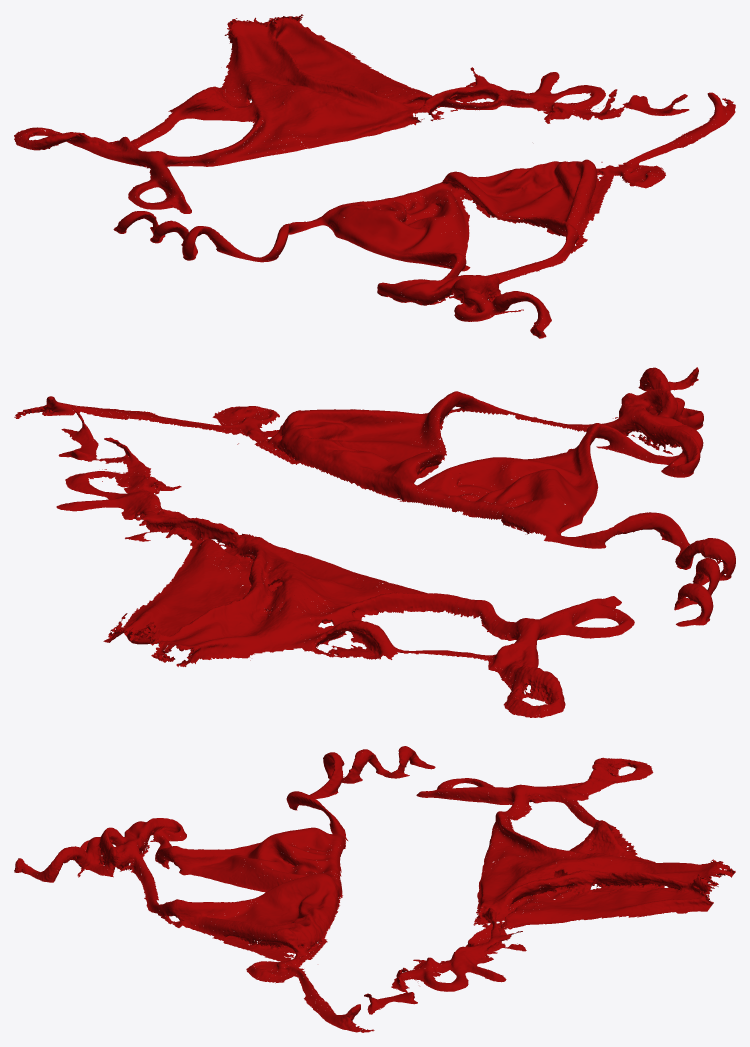
The model's file is bikini-transformed.glb.
3 renders of one model, top to bottom at view 1: azimuth 30°, elevation 25°; view 2: azimuth 150°, elevation 25°; view 3: azimuth 270°, elevation 25°, orthographic. The views are drawn at different scales.
Visible parts, largest first — view 1: Object_3, Object_4, Object_2, Object_5, Object_6; view 2: Object_5, Object_2, Object_4, Object_3, Object_6; view 3: Object_2, Object_4, Object_5, Object_3, Object_6.
Boxes of the visible parts, x1,y1,x2,y2 form: Object_3: (140, 74, 727, 253); Object_4: (113, 137, 598, 326); Object_2: (191, 14, 735, 150); Object_5: (14, 128, 664, 338); Object_6: (15, 120, 664, 172); Object_5: (203, 367, 735, 717); Object_2: (14, 396, 358, 666); Object_4: (265, 368, 724, 660); Object_3: (54, 392, 547, 659); Object_6: (200, 410, 555, 717); Object_2: (306, 825, 735, 1032); Object_4: (34, 746, 579, 957); Object_5: (14, 750, 646, 979); Object_3: (157, 804, 635, 1023); Object_6: (267, 761, 653, 982).
Bounding box in the file's own units: 0.5841 × 0.0379 × 0.6404.
